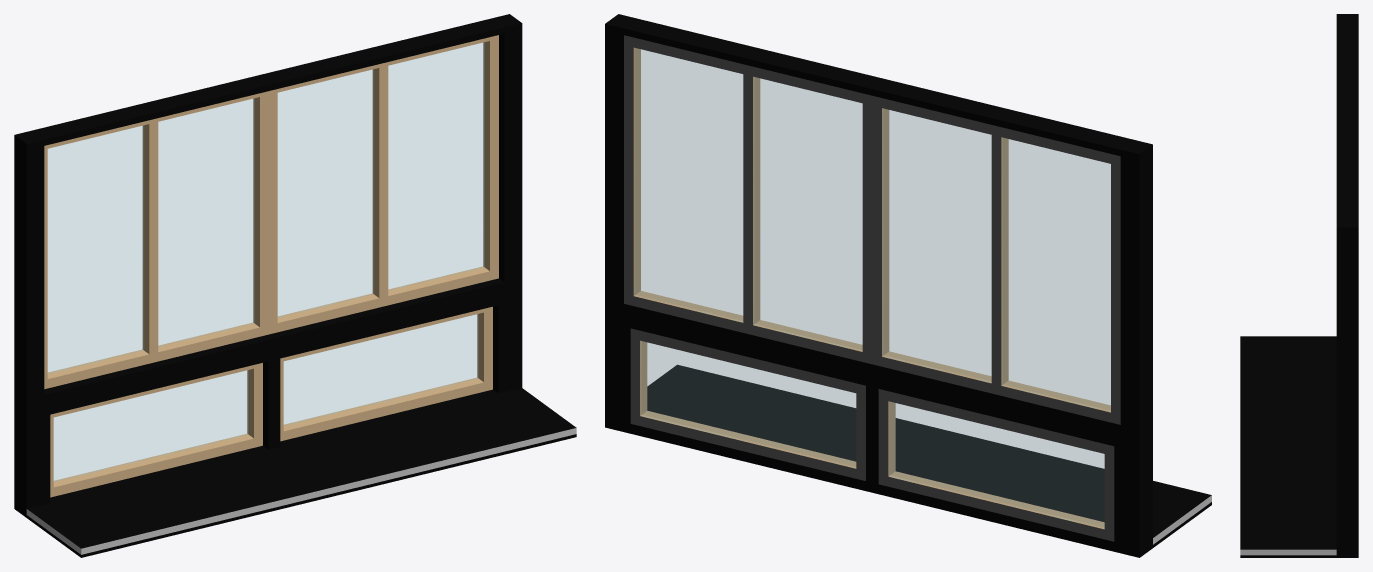
File: ventana.gltf
3 renders of one model, left to right at view 1: azimuth 30°, elevation 25°; view 2: azimuth 150°, elevation 25°; view 3: azimuth 270°, elevation 25°, orthographic. The views are drawn at different scales.
Visible parts, largest first — view 1: Object_6, Object_7, Object_4, Object_2, Object_10; view 2: Object_6, Object_7, Object_9, Object_2, Object_4; view 3: Object_2, Object_7, Object_10.
Boxes of the visible parts, bbox=[...] form: Object_6: bbox=[48, 42, 484, 481]; Object_7: bbox=[14, 14, 576, 557]; Object_4: bbox=[44, 35, 498, 497]; Object_2: bbox=[27, 388, 576, 548]; Object_10: bbox=[26, 428, 576, 554]; Object_6: bbox=[634, 48, 1110, 528]; Object_7: bbox=[605, 14, 1211, 557]; Object_9: bbox=[624, 35, 1120, 541]; Object_2: bbox=[647, 364, 1211, 537]; Object_4: bbox=[633, 47, 1110, 529]; Object_2: bbox=[1240, 336, 1336, 549]; Object_7: bbox=[1240, 14, 1358, 557]; Object_10: bbox=[1240, 549, 1336, 555].
Size of the model in its own units: 320 by 231 by 74.93.
